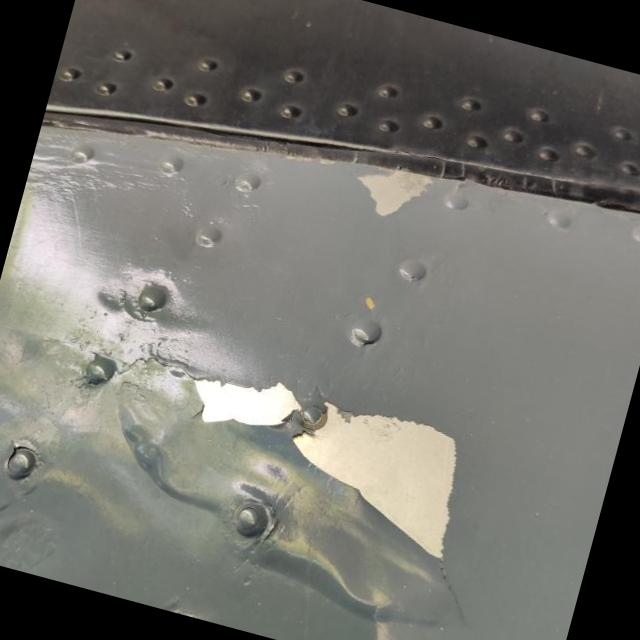Paint-off: (117, 360, 448, 624), (293, 404, 456, 557), (194, 380, 299, 426), (358, 169, 431, 214)
